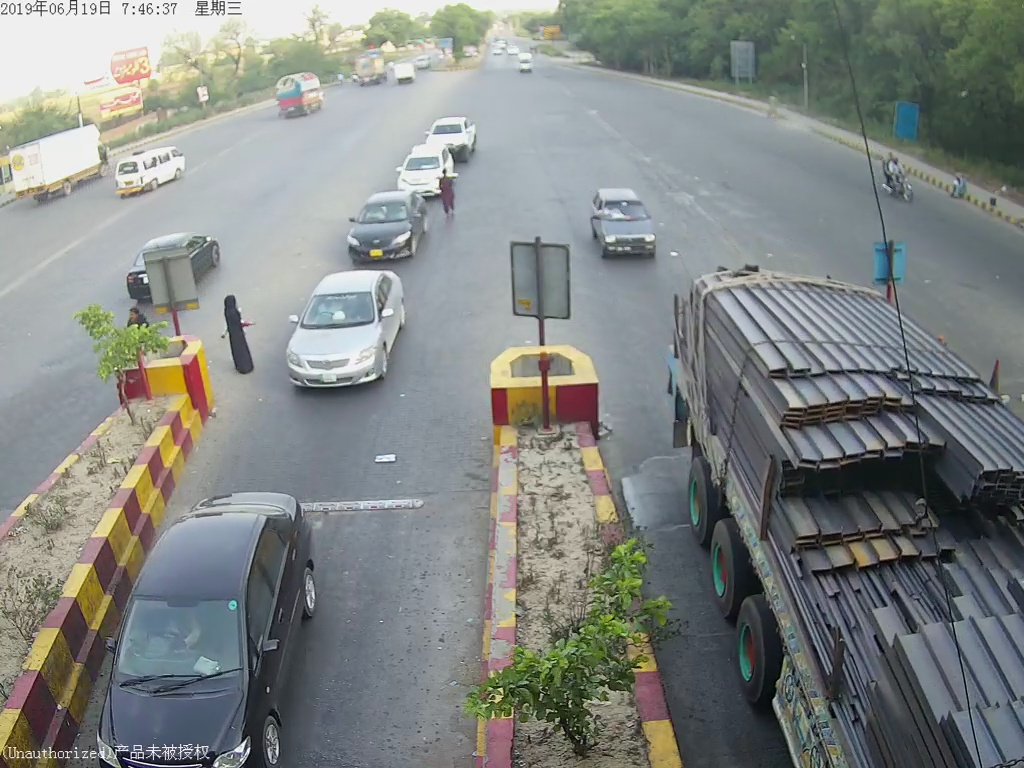Cat-1: (104, 471, 343, 756), (280, 281, 414, 402), (343, 190, 436, 264), (594, 186, 663, 264)
